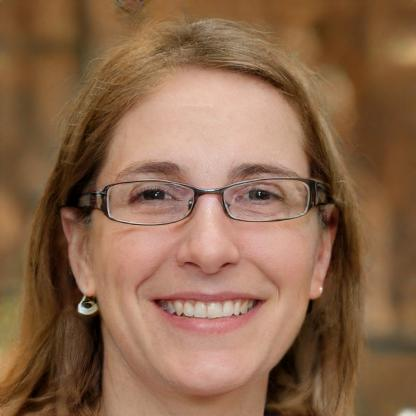glasses: (98, 172, 321, 235)
